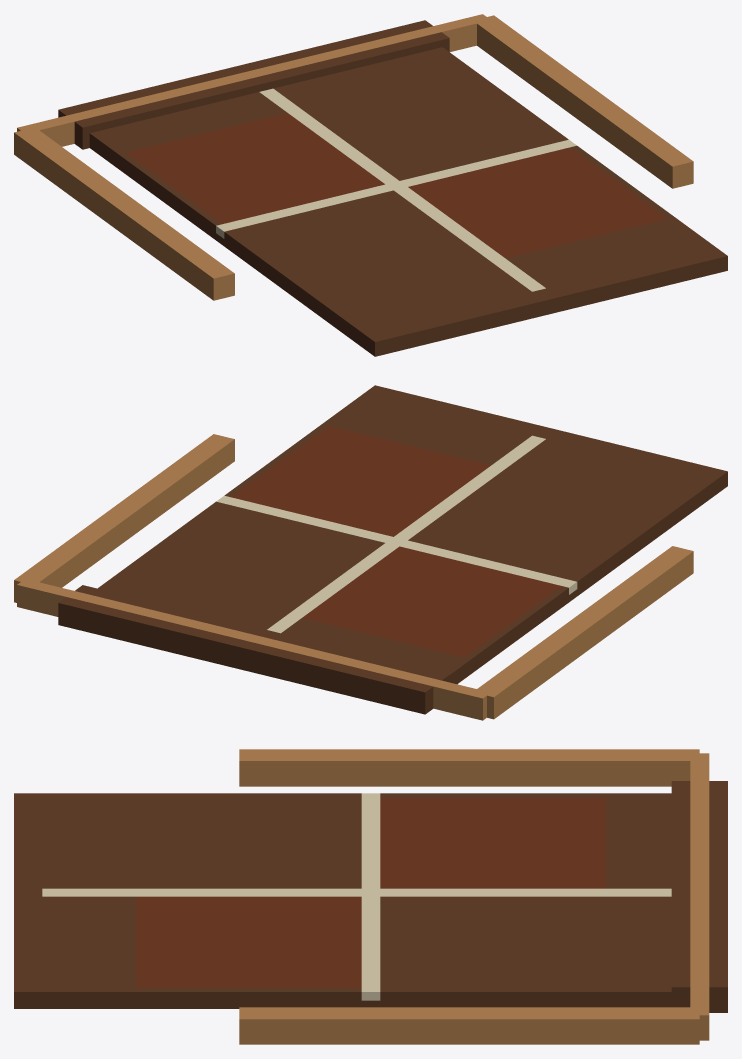
The model's file is loincloth_leather.glb.
The picture shows the model from 3 angles, top to bottom: view 1: azimuth 30°, elevation 25°; view 2: azimuth 150°, elevation 25°; view 3: azimuth 270°, elevation 25°; orthographic projection. The views are drawn at different scales.
Visible parts, largest first — view 1: loincloth_leather:compound; view 2: loincloth_leather:compound; view 3: loincloth_leather:compound.
Part boxes in pixels (bbox=[...]): loincloth_leather:compound: bbox=[14, 14, 727, 356]; loincloth_leather:compound: bbox=[14, 385, 727, 720]; loincloth_leather:compound: bbox=[14, 749, 727, 1044].
Size of the model in its own units: 0.272 by 0.012 by 0.304.
